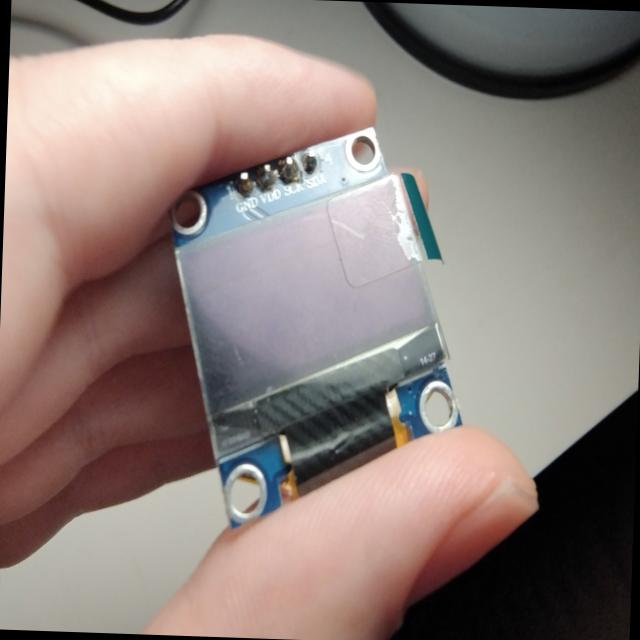oled: (152, 109, 481, 537)
